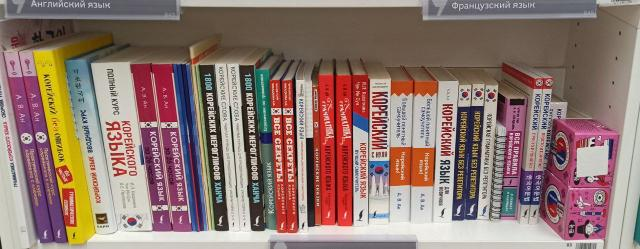book-s-spine: (90, 62, 153, 231), (33, 51, 84, 244), (3, 52, 53, 244), (19, 52, 68, 243), (64, 60, 116, 235), (130, 64, 172, 232), (152, 64, 192, 232), (0, 66, 30, 249), (199, 65, 228, 232), (239, 65, 265, 232), (215, 64, 240, 231), (227, 63, 251, 232), (411, 81, 437, 224), (433, 81, 459, 223), (529, 78, 553, 225), (520, 79, 544, 225), (256, 69, 277, 230), (500, 99, 527, 221), (390, 81, 413, 223), (369, 79, 391, 225), (477, 85, 498, 220), (452, 85, 472, 221), (465, 84, 485, 220), (270, 80, 287, 233), (282, 80, 298, 234), (336, 75, 352, 227), (319, 75, 335, 226), (353, 75, 368, 227), (296, 80, 308, 233), (312, 87, 321, 225)
